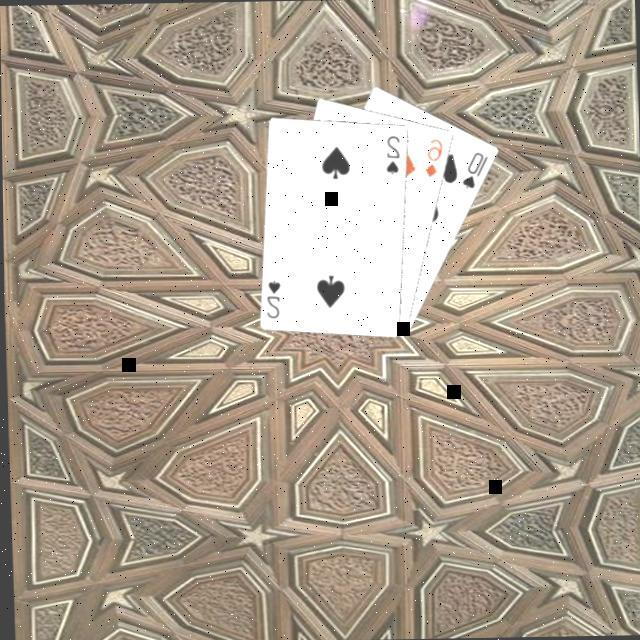10S: (458, 146, 494, 192)
2S: (262, 275, 286, 320), (383, 130, 405, 176)
6D: (421, 134, 449, 178)
